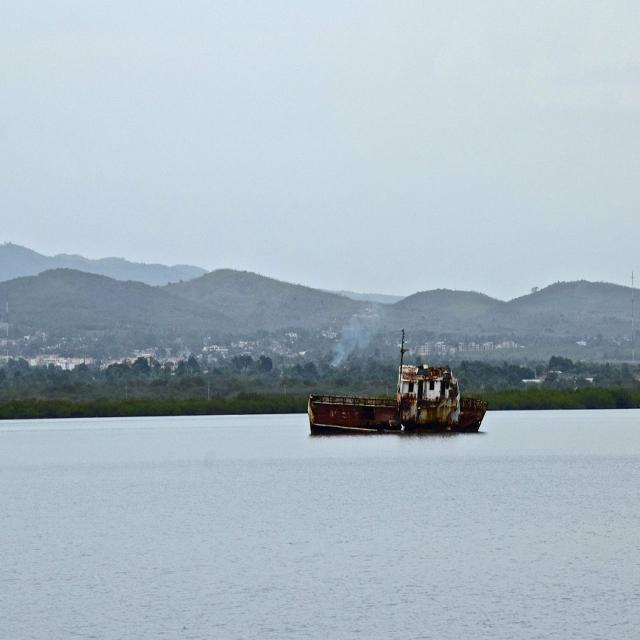fishing boat: (301, 353, 486, 434)
